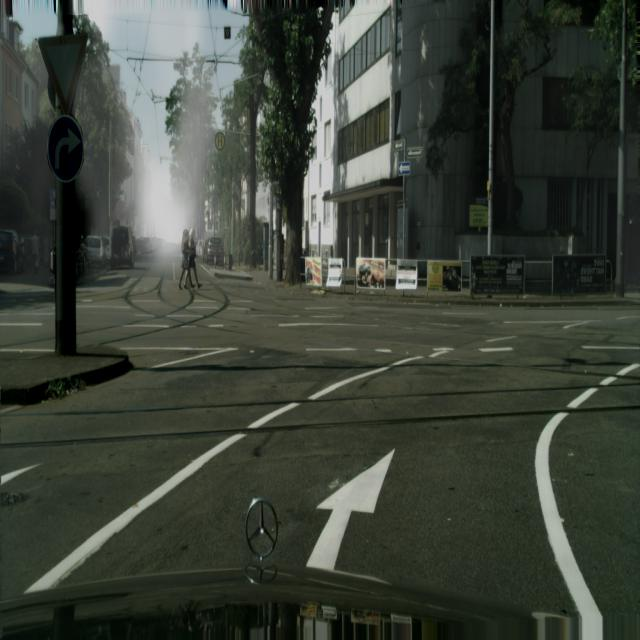person: (179, 227, 201, 290)
truck: (0, 229, 26, 274), (83, 235, 110, 268), (202, 236, 225, 267)
